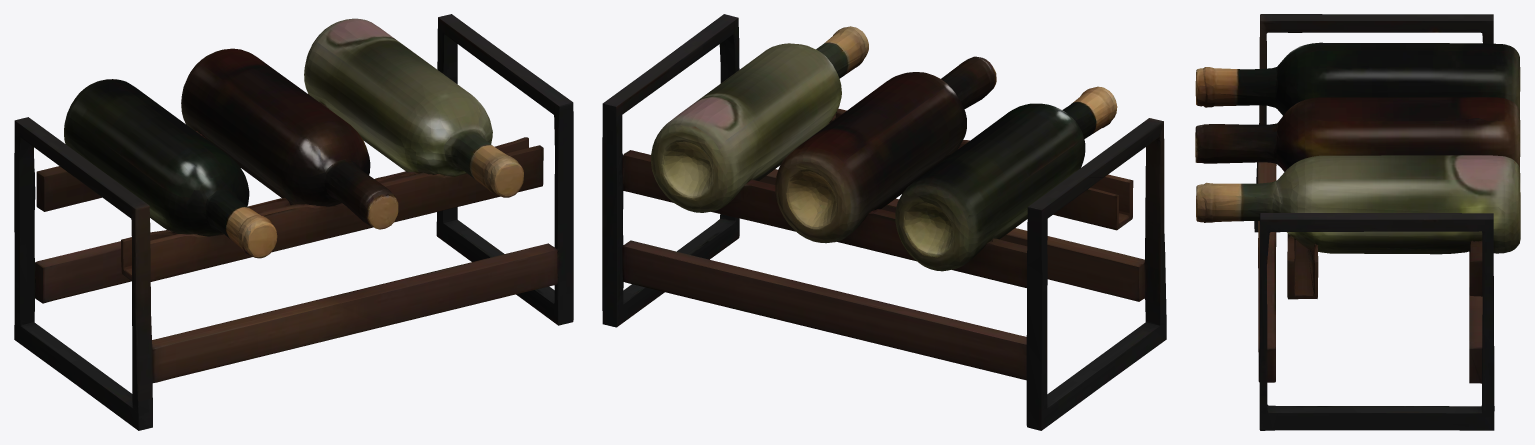
File: wine_rack_bottles.glb
The picture shows the model from 3 angles, left to right: view 1: azimuth 30°, elevation 25°; view 2: azimuth 150°, elevation 25°; view 3: azimuth 270°, elevation 25°; orthographic projection. The views are drawn at different scales.
Visible parts, largest first — view 1: geometry_0; view 2: geometry_0; view 3: geometry_0.
Part boxes in pixels (bbox=[...]): geometry_0: bbox=[14, 14, 573, 430]; geometry_0: bbox=[602, 14, 1166, 430]; geometry_0: bbox=[1195, 14, 1520, 430].
Bounding box in the file's own units: 0.9998 × 0.511 × 0.667.
Materials: 1 (1 with a texture image).
